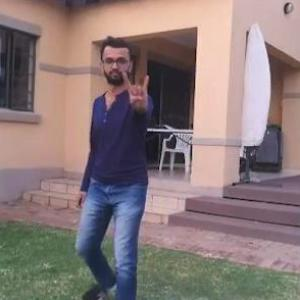takeoff-hand: (120, 66, 162, 112)
